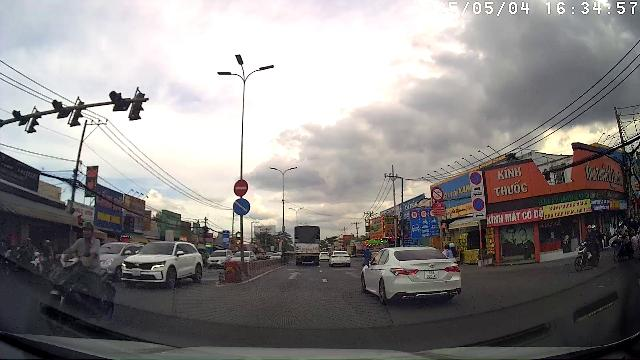102-cam-di-nguoc-chieu: (233, 179, 249, 197)
130-cam-dung-va-do-xe: (470, 172, 482, 185)
131a-cam-do-xe: (472, 197, 485, 211)
302a-huong-phai-di-vong-chuong-ngai-vat-1: (232, 198, 251, 216)
